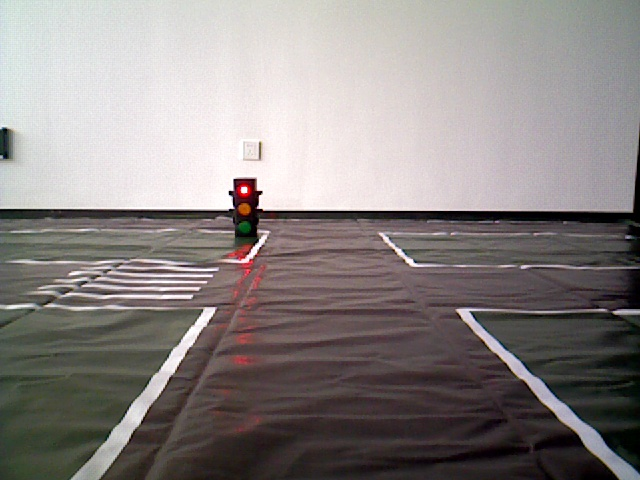red: (231, 179, 256, 237)
